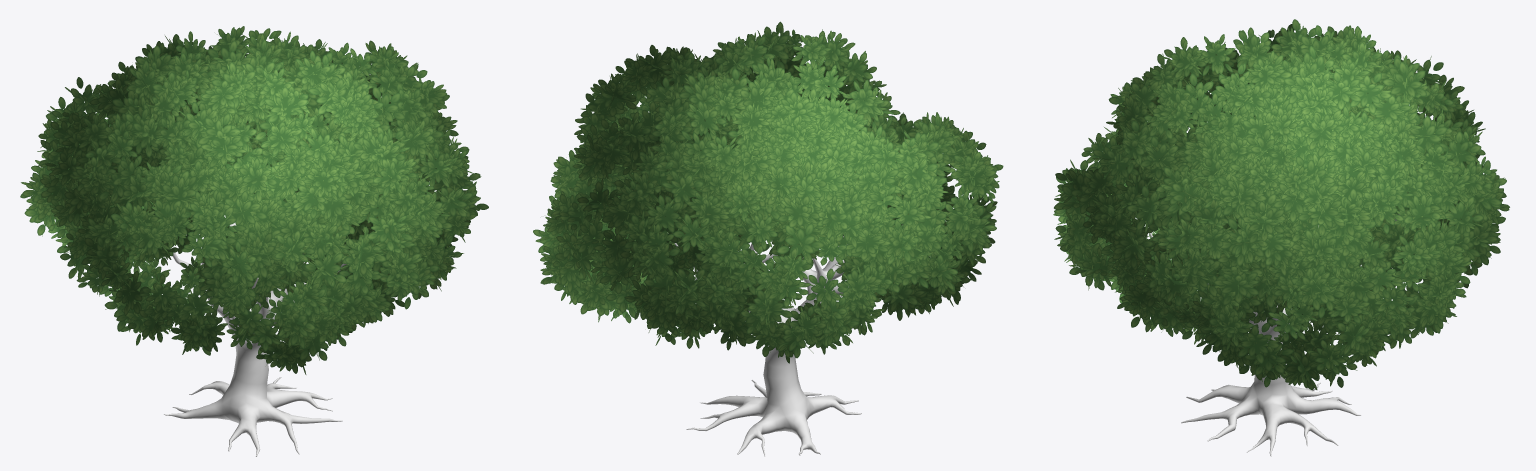
Rendered from Tree2.fbx.
3 views of the same model, side by side, from view 1: azimuth 30°, elevation 25°; view 2: azimuth 150°, elevation 25°; view 3: azimuth 270°, elevation 25° (orthographic). The views are drawn at different scales.
Parts seen in each view (by area): view 1: Backup.001; view 2: Backup.001; view 3: Backup.001.
Part boxes in pixels (x1,y1,x2,y2): Backup.001: (20, 26, 488, 456); Backup.001: (533, 21, 1003, 456); Backup.001: (1053, 19, 1509, 456).
Bounding box in the file's own units: 1795 × 1560 × 1727.
